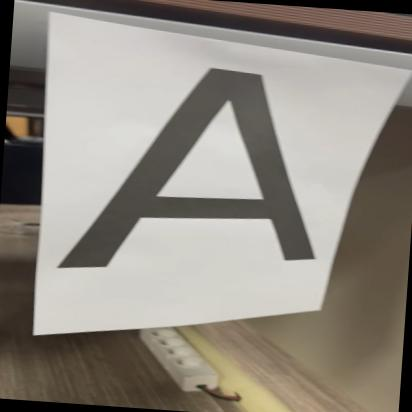seat: (48, 44, 332, 296)
